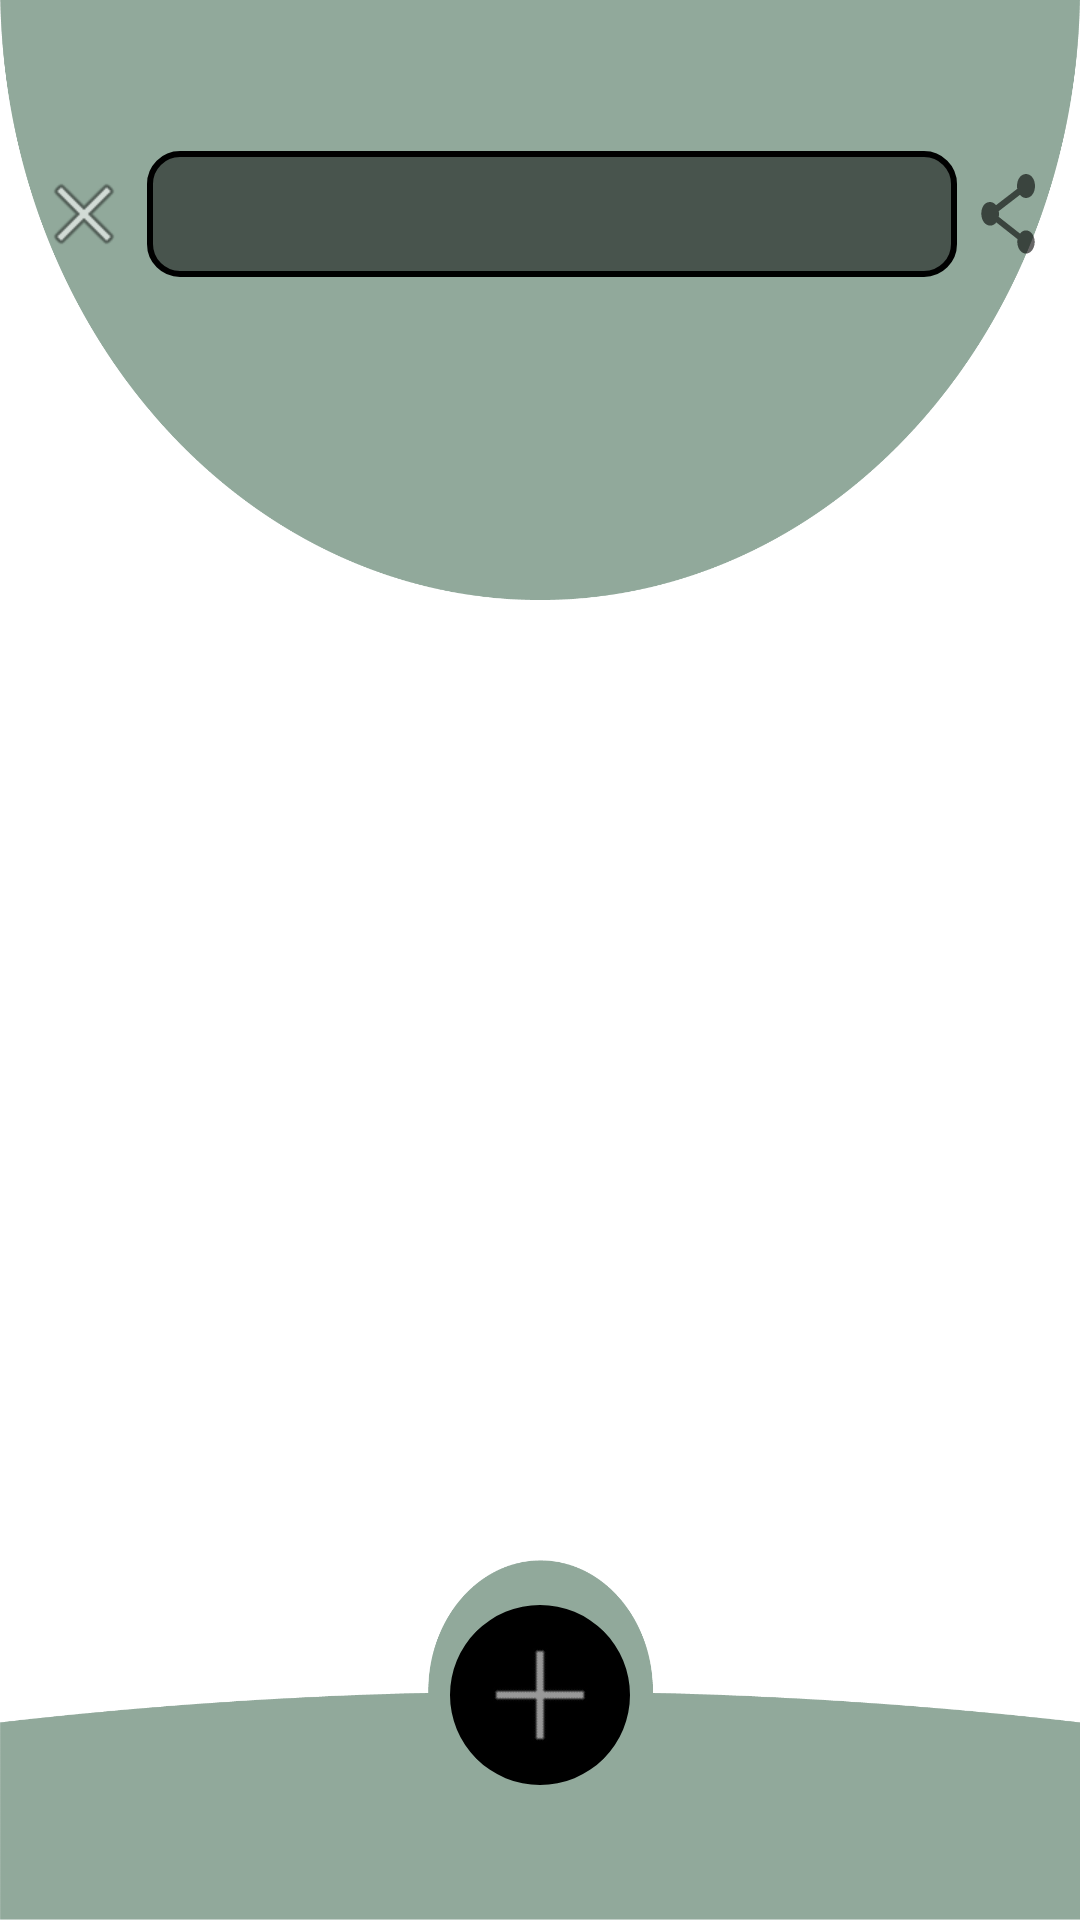

Screen size 1080px×1920px. Icon name, then its box in pixels as (x1, y1, x2, y2):
close clear cancel: (54, 184, 114, 244)
share: (981, 174, 1044, 262)
